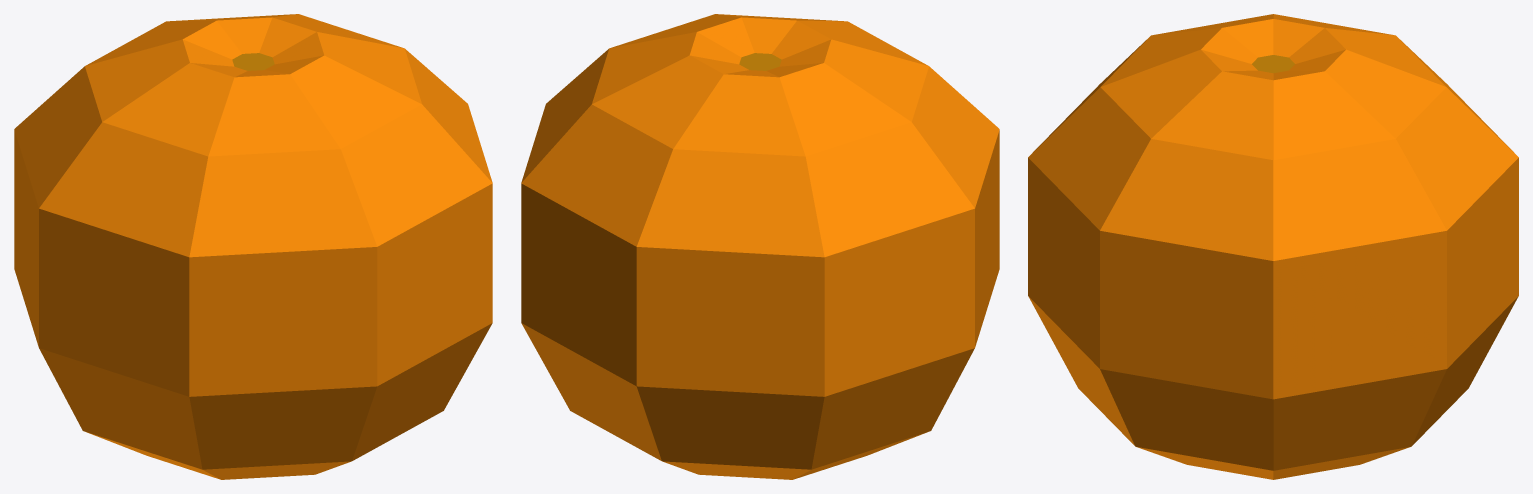
The model's file is orange01.gltf.
3 views of the same model, side by side, from view 1: azimuth 30°, elevation 25°; view 2: azimuth 150°, elevation 25°; view 3: azimuth 270°, elevation 25° (orthographic).
Visible parts, largest first — view 1: Cylinder; view 2: Cylinder; view 3: Cylinder.
Part boxes in pixels (bbox=[...]): Cylinder: bbox=[14, 14, 492, 479]; Cylinder: bbox=[521, 14, 999, 479]; Cylinder: bbox=[1028, 14, 1518, 479].
Bounding box in the file's own units: 0.1007 × 0.0857 × 0.1007.
1 material, 1 textured.
